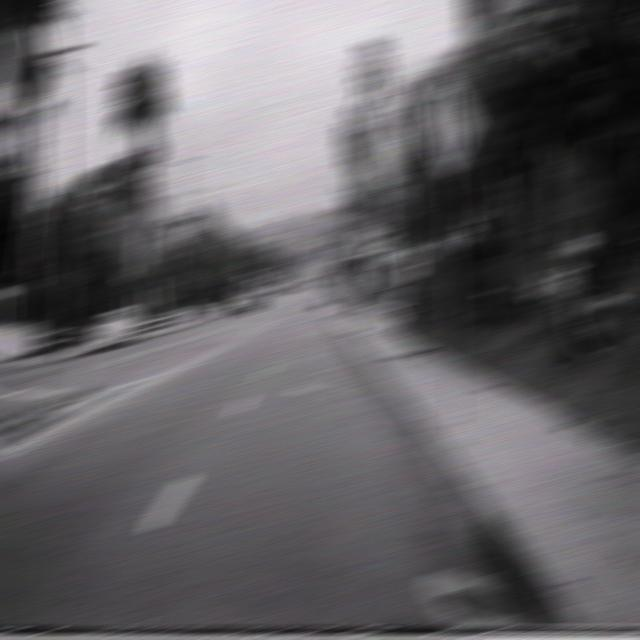speedLimit30: (353, 227, 375, 255)
